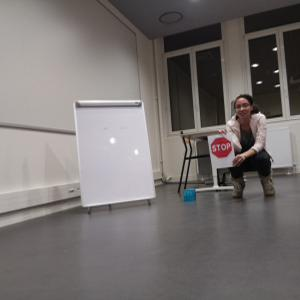big: (72, 99, 159, 209)
small: (182, 188, 195, 202)
